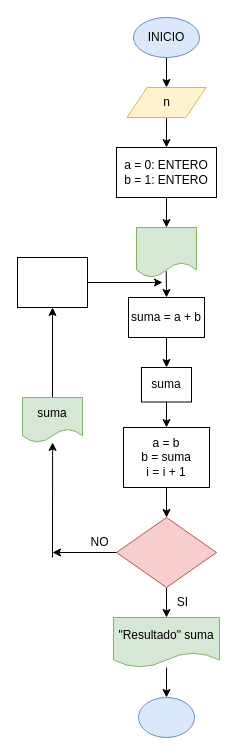
Image size: 237x755. Some labels were removed from this diagram. Here are the shapes that lost their labels. From the top down, the box of each, then its label:
(136, 226, 196, 278): a, b
(16, 256, 88, 308): a = b b = suma
(116, 516, 216, 588): suma =< n?
(138, 696, 194, 738): FIN
